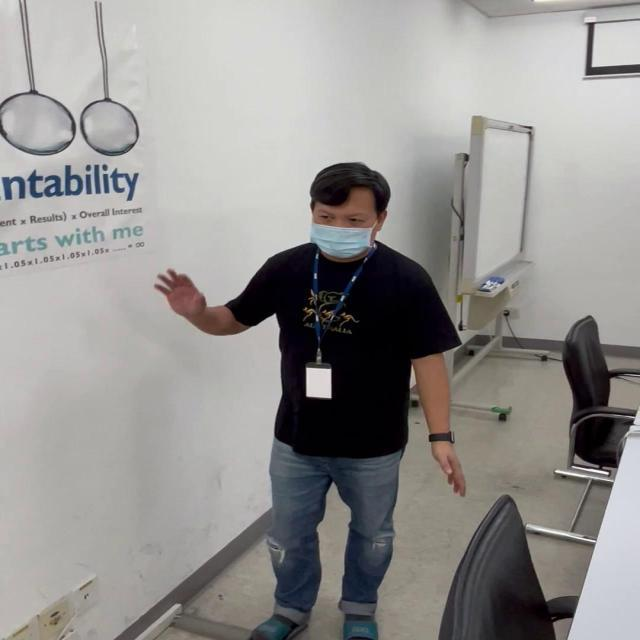bare_hand: (152, 259, 207, 326), (428, 437, 467, 500)
